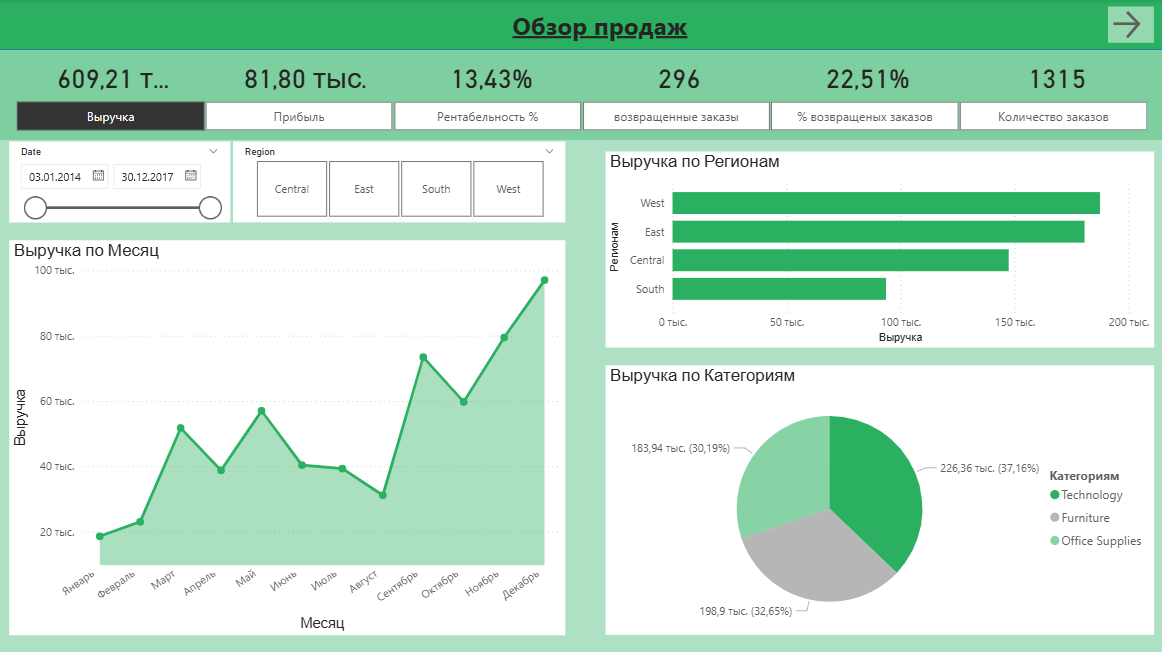

The page's visual inventory and layout, read from the dashboard file:
{"tool":"powerbi","page":{"name":"Обзор продаж","canvas":[1280,720],"ordinal":1},"visuals":[{"type":"shape","box":[0,0,1280.3,56.3],"z":0},{"type":"shape","box":[0,56.3,1280.3,98.8],"z":1000},{"type":"slicer","fields":{"Values":["Параметр 2.Параметр"]},"box":[0,105.7,1280.3,45.3],"z":2000},{"type":"card","fields":{"Values":["меры.Выручка"]},"box":[50.8,67.2,150.9,38.4],"z":3000},{"type":"card","fields":{"Values":["меры.Рентабельность продаж %"]},"box":[461.1,67.2,161.9,38.4],"z":4000},{"type":"card","fields":{"Values":["меры.возвращенные заказы"]},"box":[666.9,67.2,161.9,38.4],"z":5000},{"type":"card","fields":{"Values":["меры.% возвращеных заказов"]},"box":[874.1,67.2,161.9,38.4],"z":6000},{"type":"card","fields":{"Values":["меры.Количество заказов"]},"box":[1077.2,67.2,171.5,38.4],"z":7000},{"type":"card","fields":{"Values":["меры.Прибыль"]},"box":[255.2,67.2,164.7,38.4],"z":8000},{"type":"lineChart","fields":{"Y":["меры.Выручка"],"Category":["Calendar.Date.Изменение.Иерархия дат.Год","Calendar.Date.Изменение.Иерархия дат.Квартал","Calendar.Date.Изменение.Иерархия дат.Месяц"]},"box":[12.3,264.8,610.6,433.6],"z":9000},{"type":"barChart","fields":{"Y":["меры.Выручка"],"Category":["Orders.Region"]},"box":[666.9,167.4,602.4,215.4],"z":10000},{"type":"slicer","fields":{"Values":["Calendar.Date"]},"box":[12.3,156.4,241.5,89.2],"z":11000},{"type":"slicer","fields":{"Values":["Orders.Region"]},"box":[258,156.4,365,89.2],"z":12000},{"type":"pieChart","fields":{"Y":["меры.Выручка"],"Category":["Orders.Category"]},"box":[666.9,402.1,602.4,296.4],"z":13000},{"type":"actionButton","box":[1218.5,8.2,50.8,39.8],"z":14000},{"type":"textbox","box":[338.9,5.5,603.8,50.8],"z":15000}]}

Visuals, with their boxes in screenshot pixels (x1, y1, x2, y2), scaled from the page's 1280x720 canvas onto the 1162x652 screenshot:
shape: l=0, t=0, r=1161, b=51
shape: l=0, t=51, r=1161, b=140
slicer - Параметр 2.Параметр: l=0, t=96, r=1161, b=137
card - меры.Выручка: l=46, t=61, r=183, b=96
card - меры.Рентабельность продаж %: l=419, t=61, r=566, b=96
card - меры.возвращенные заказы: l=605, t=61, r=752, b=96
card - меры.% возвращеных заказов: l=794, t=61, r=940, b=96
card - меры.Количество заказов: l=978, t=61, r=1134, b=96
card - меры.Прибыль: l=232, t=61, r=381, b=96
lineChart - меры.Выручка x Calendar.Date.Изменение.Иерархия дат.Год: l=11, t=240, r=565, b=632
barChart - меры.Выручка x Orders.Region: l=605, t=152, r=1152, b=347
slicer - Calendar.Date: l=11, t=142, r=230, b=222
slicer - Orders.Region: l=234, t=142, r=566, b=222
pieChart - меры.Выручка x Orders.Category: l=605, t=364, r=1152, b=633
actionButton: l=1106, t=7, r=1152, b=43
textbox: l=308, t=5, r=856, b=51
